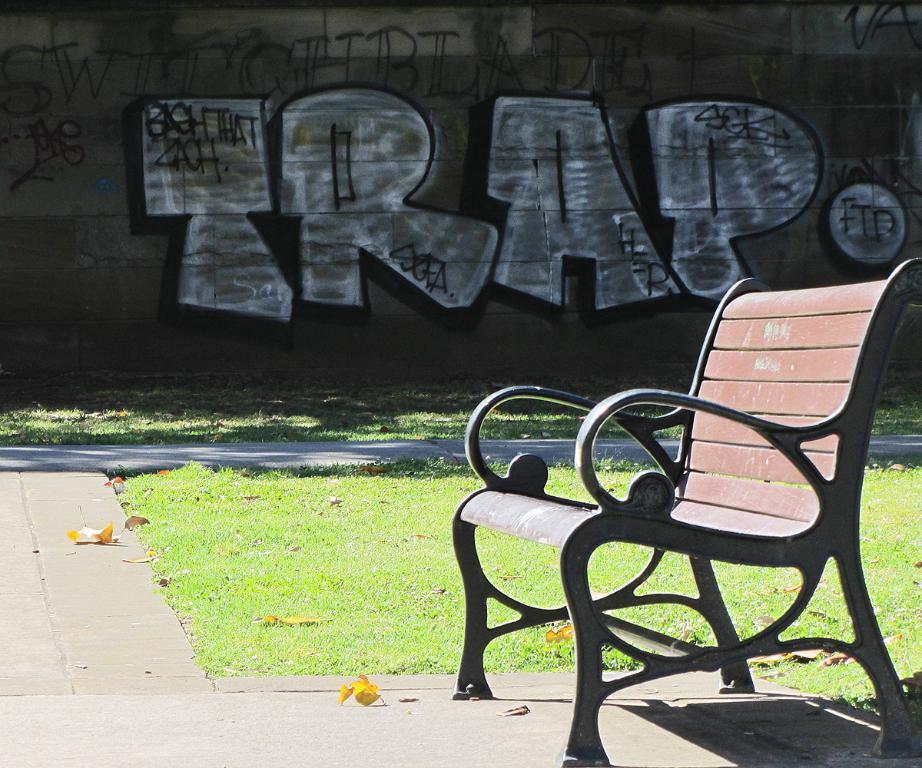Chair: (507, 233, 901, 759)
